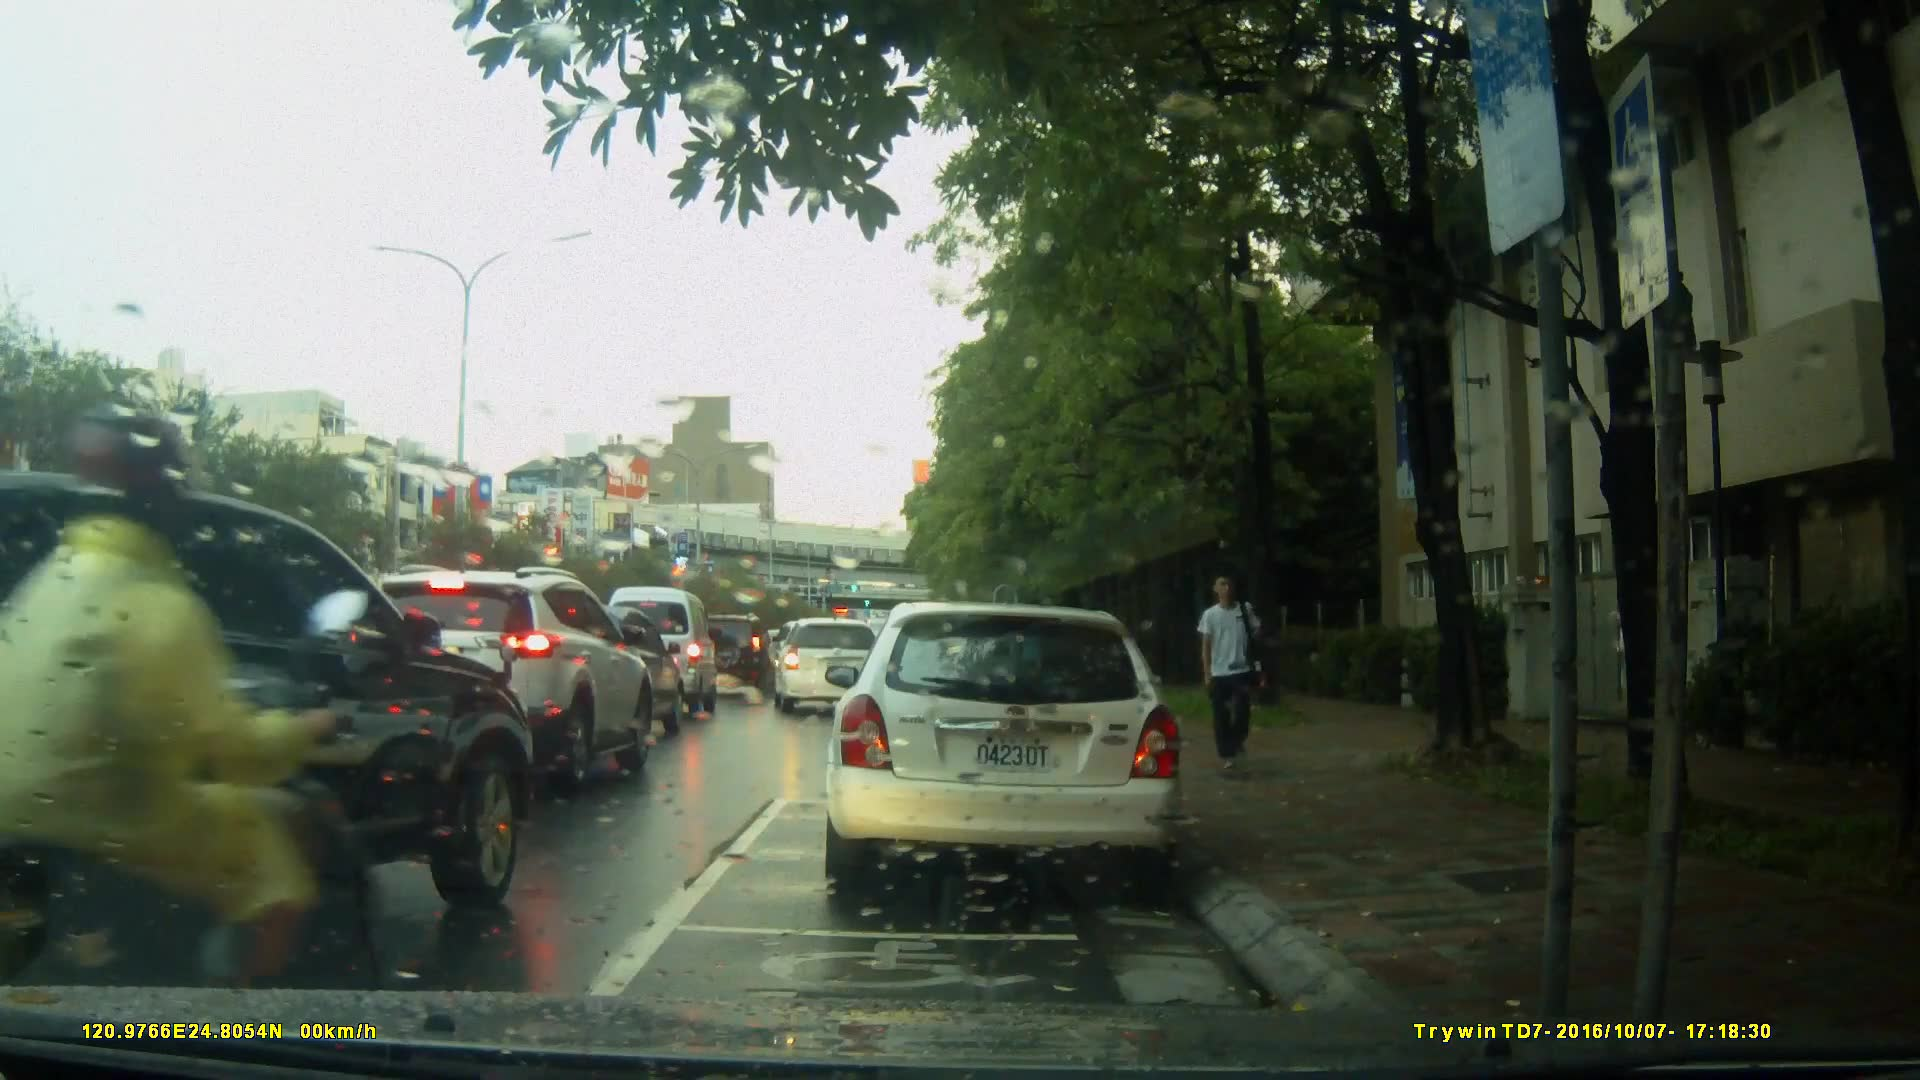pedestrian: (1194, 566, 1273, 788)
rider: (1, 410, 375, 1073)
vehicle: (1, 470, 533, 988), (820, 602, 1188, 898), (343, 563, 659, 791), (533, 603, 692, 736), (599, 585, 723, 722), (772, 617, 889, 715), (678, 611, 775, 702)
